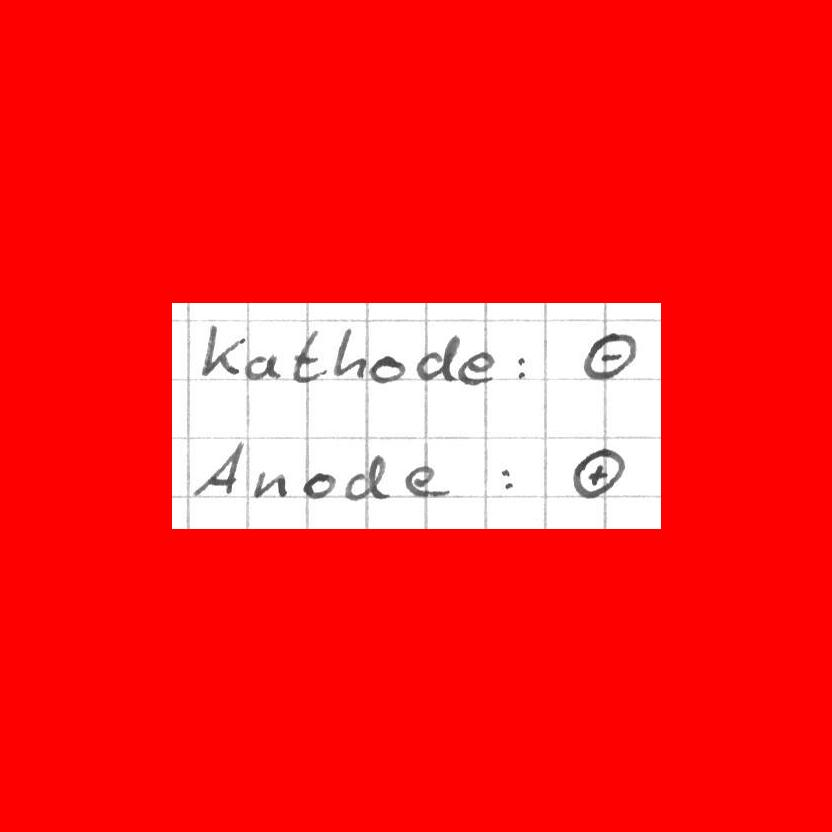Char: (189, 436, 246, 499), (197, 322, 246, 380), (413, 330, 460, 384), (341, 452, 390, 501), (290, 326, 330, 383), (332, 326, 370, 383), (402, 463, 452, 500), (250, 465, 296, 501), (456, 349, 498, 387), (297, 467, 340, 498), (367, 351, 405, 386), (244, 350, 282, 383), (511, 350, 532, 383), (499, 465, 517, 495), (598, 346, 623, 365), (587, 464, 607, 487)
